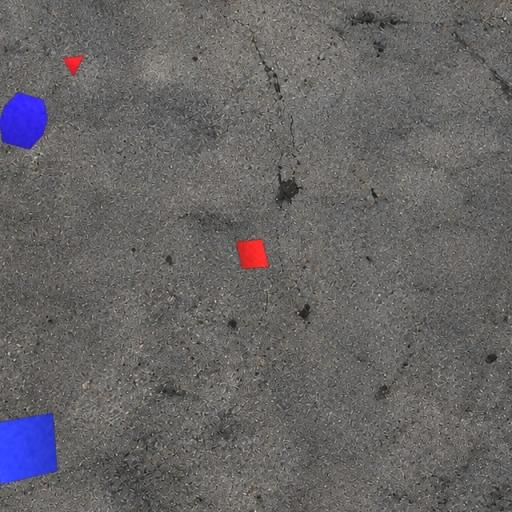BLUE_SQUARE: (0, 412, 58, 485)
RED_SQUARE: (235, 238, 270, 270)
